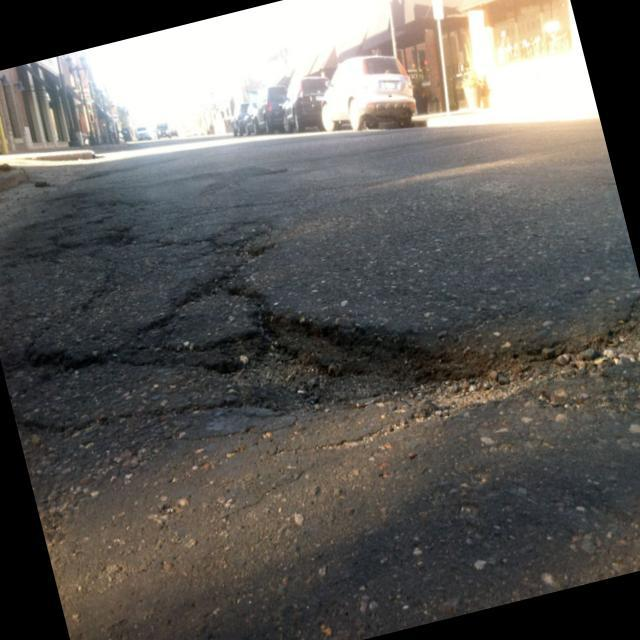Pothole: (228, 259, 543, 483), (565, 275, 640, 394)
